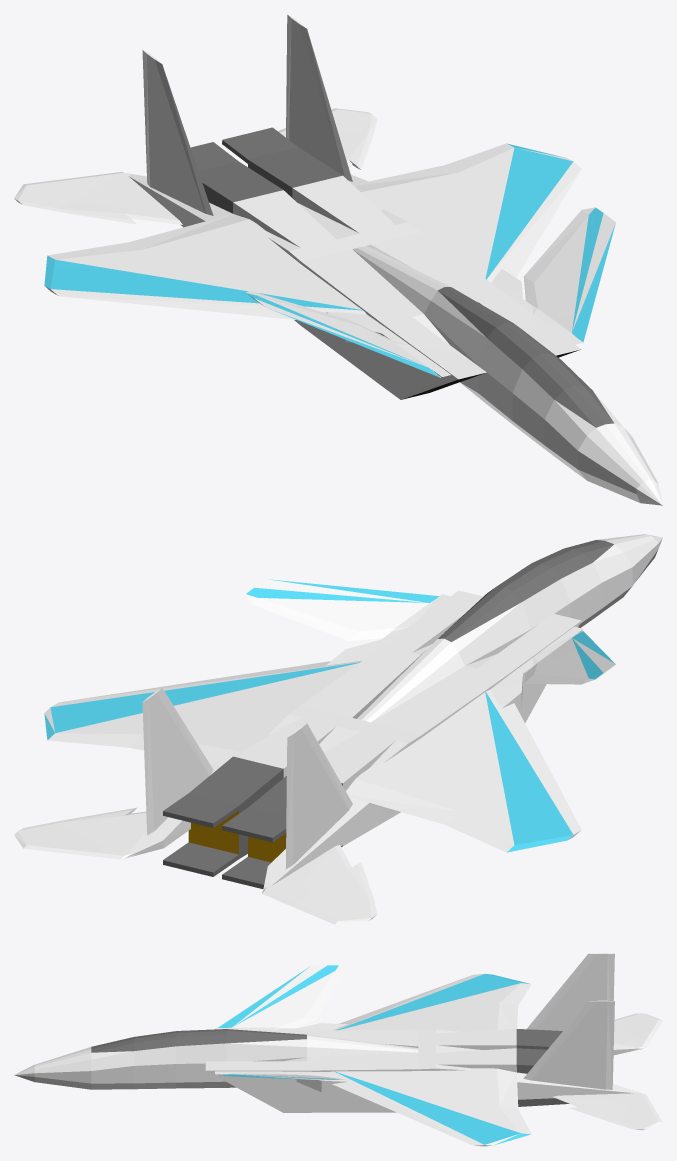
Rendered from F15Activeb.obj.
The picture shows the model from 3 angles, top to bottom: view 1: azimuth 30°, elevation 25°; view 2: azimuth 150°, elevation 25°; view 3: azimuth 270°, elevation 25°; orthographic projection. The views are drawn at different scales.
Visible parts, largest first — view 1: Cube.007, Cube.006, Cube.010, Cube.015, Cube.008, Cube.009; view 2: Cube.007, Cube.006, Cube.010, Cube.015, Cube.008, Cube.009; view 3: Cube.007, Cube.006, Cube.010, Cube.015, Cube.008, Cube.009.
Part boxes in pixels (x1=…): Cube.007: x1=190, y1=127, x2=662, y2=505; Cube.006: x1=44, y1=143, x2=581, y2=319; Cube.010: x1=142, y1=14, x2=352, y2=215; Cube.015: x1=246, y1=207, x2=615, y2=377; Cube.008: x1=14, y1=108, x2=377, y2=224; Cube.009: x1=127, y1=173, x2=583, y2=376; Cube.007: x1=163, y1=534, x2=662, y2=888; Cube.006: x1=44, y1=660, x2=581, y2=852; Cube.010: x1=142, y1=688, x2=352, y2=869; Cube.015: x1=246, y1=579, x2=615, y2=684; Cube.008: x1=14, y1=807, x2=377, y2=924; Cube.009: x1=125, y1=594, x2=583, y2=890; Cube.007: x1=14, y1=1029, x2=569, y2=1112; Cube.006: x1=328, y1=973, x2=531, y2=1146; Cube.010: x1=523, y1=953, x2=614, y2=1089; Cube.015: x1=217, y1=965, x2=344, y2=1080; Cube.008: x1=552, y1=1013, x2=662, y2=1130; Cube.009: x1=215, y1=1023, x2=642, y2=1101.
Size of the model in its own units: 16.64 by 5.23 by 26.67.
